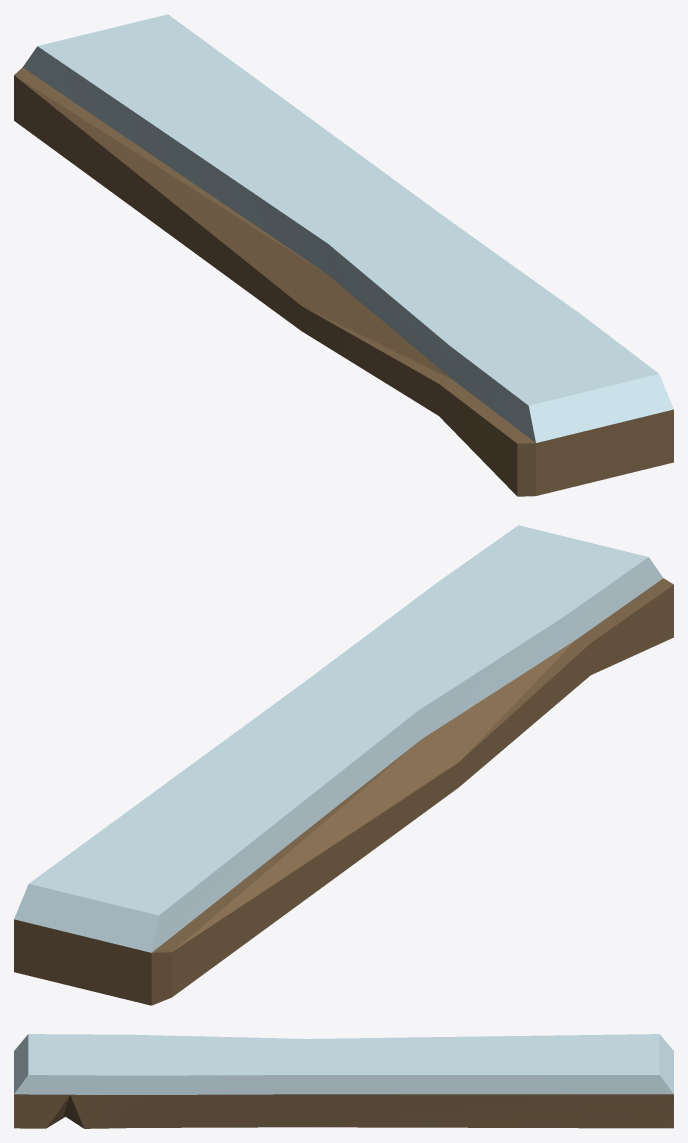
Rendered from Tablon02.glb.
3 renders of one model, top to bottom at view 1: azimuth 30°, elevation 25°; view 2: azimuth 150°, elevation 25°; view 3: azimuth 270°, elevation 25°, orthographic. The views are drawn at different scales.
Parts seen in each view (by area): view 1: SM_Env_Path_Wood_Plank_02_Snow; view 2: SM_Env_Path_Wood_Plank_02_Snow; view 3: SM_Env_Path_Wood_Plank_02_Snow.
Part boxes in pixels (x1=…): SM_Env_Path_Wood_Plank_02_Snow: x1=14, y1=14, x2=673, y2=496; SM_Env_Path_Wood_Plank_02_Snow: x1=14, y1=525, x2=673, y2=1005; SM_Env_Path_Wood_Plank_02_Snow: x1=14, y1=1034, x2=673, y2=1128.
Size of the model in its own units: 0.4963 by 0.2491 by 2.85.
1 material, 1 textured.
